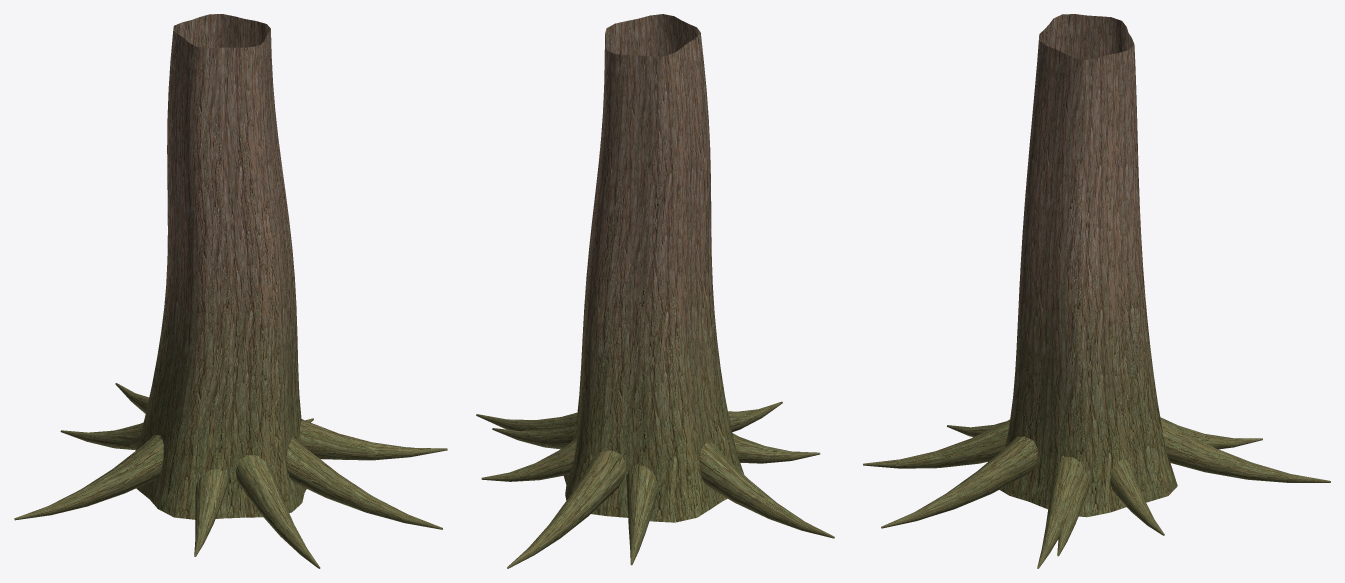
Rendered from tree_3.glb.
3 views of the same model, side by side, from view 1: azimuth 30°, elevation 25°; view 2: azimuth 150°, elevation 25°; view 3: azimuth 270°, elevation 25° (orthographic). The views are drawn at different scales.
Bounding box in the file's own units: 3.68 × 4.04 × 3.86.
Materials: 1 (1 with a texture image).
